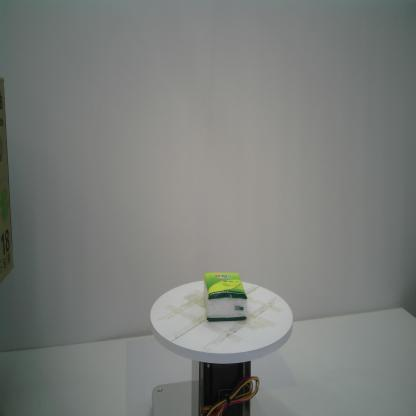Tissue: (203, 272, 248, 322)
